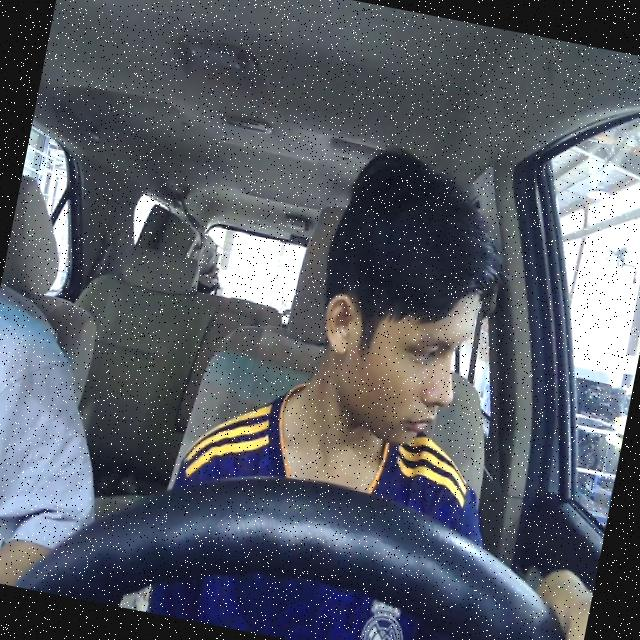seeing_right: (301, 255, 484, 458)
